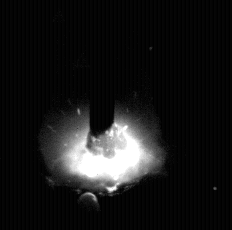arame: (90, 0, 115, 137)
poca: (38, 0, 163, 230)
